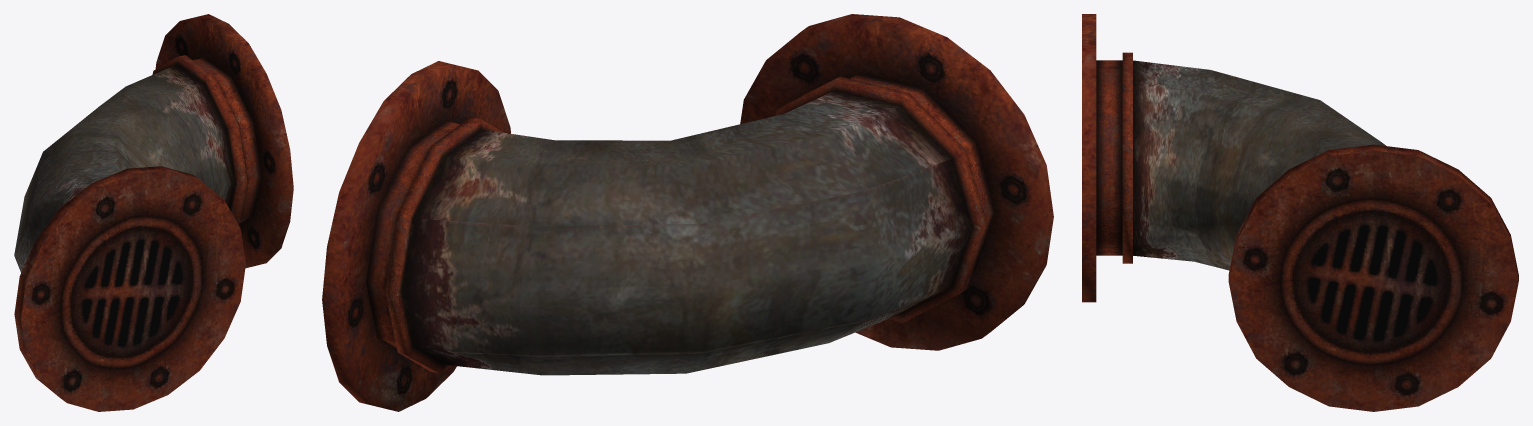
File: bend_short.dae
3 renders of one model, left to right at view 1: azimuth 30°, elevation 25°; view 2: azimuth 150°, elevation 25°; view 3: azimuth 270°, elevation 25°, orthographic. The views are drawn at different scales.
Visible parts, largest first — view 1: polySurface774; view 2: polySurface774; view 3: polySurface774.
Part boxes in pixels (x1=…): polySurface774: x1=14, y1=14, x2=293, y2=411; polySurface774: x1=322, y1=14, x2=1053, y2=411; polySurface774: x1=1082, y1=14, x2=1518, y2=411.
Bounding box in the file's own units: 0.7491 × 0.4995 × 0.7496.
